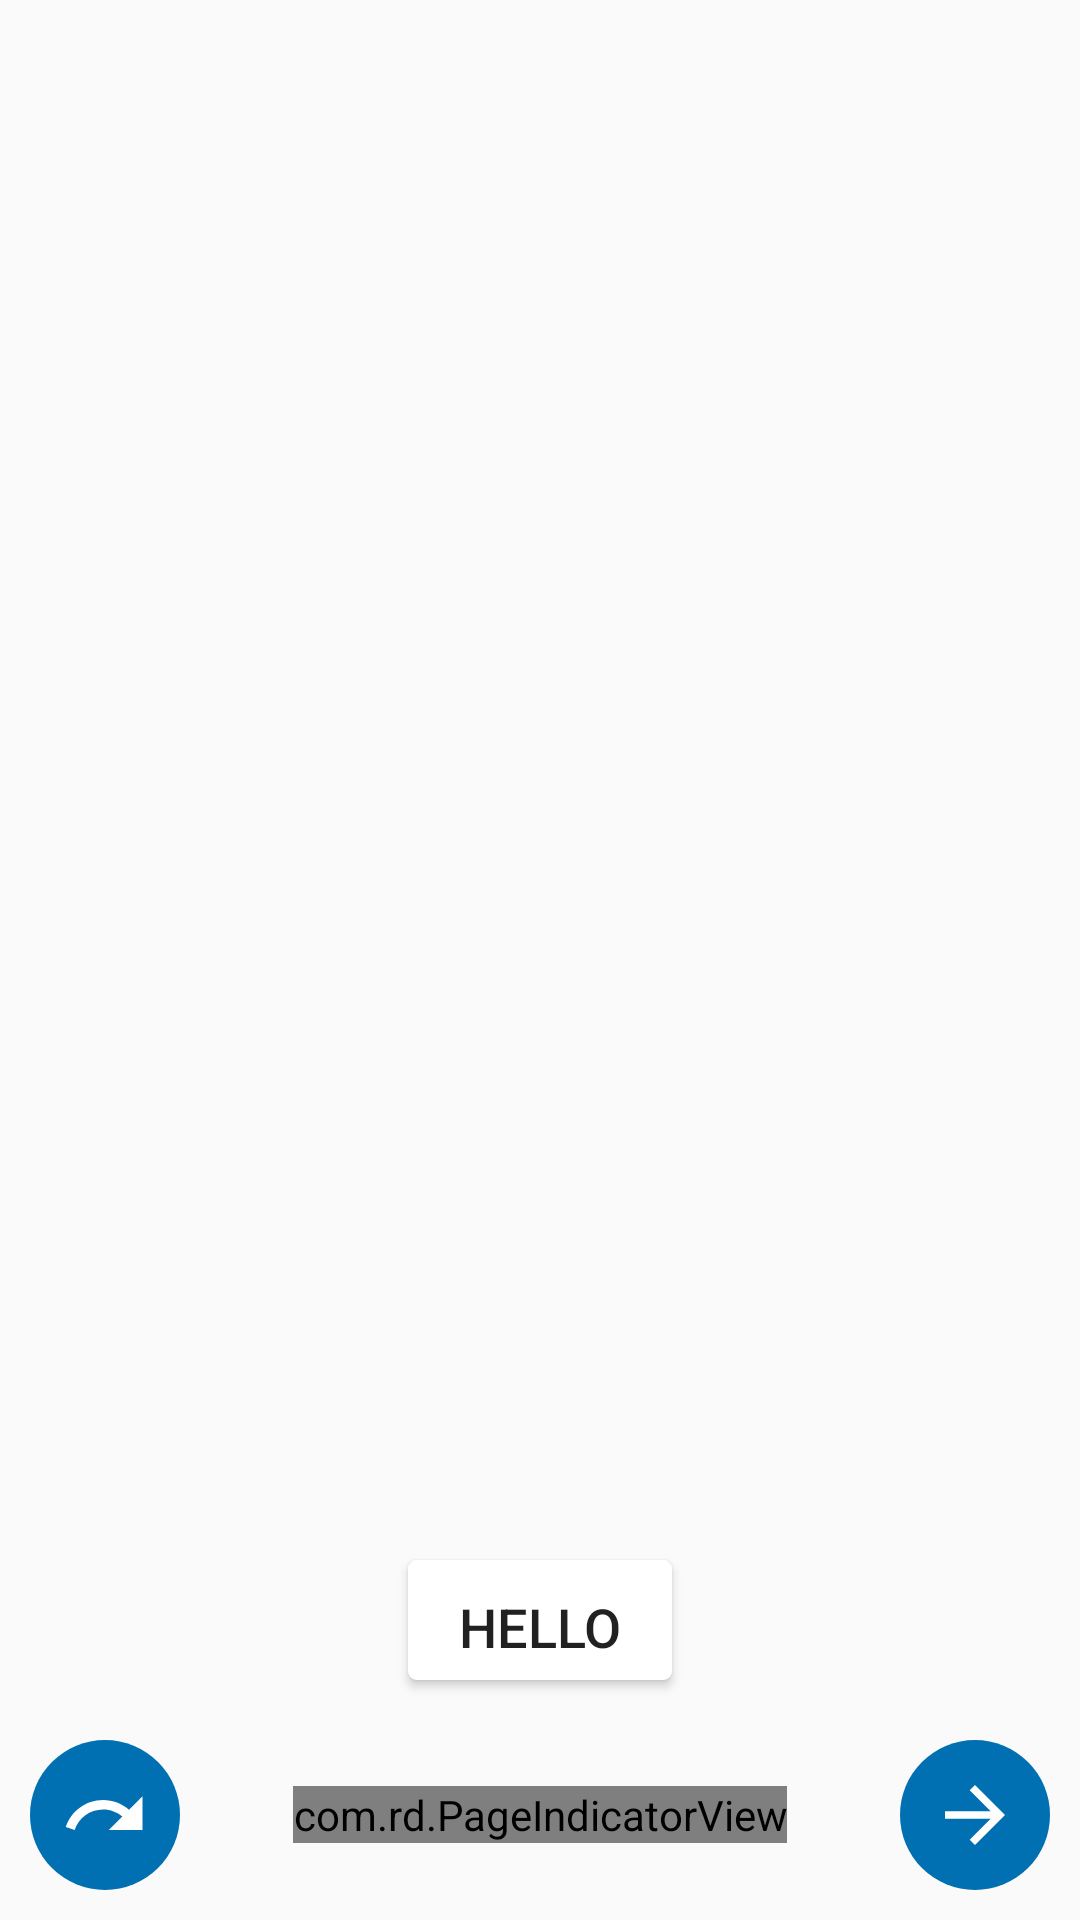

Locate icon controls on the screen. Image size 1080 x 1920, boxes as (x1, y1, x2, y2).
forward: (900, 1740, 1050, 1890)
